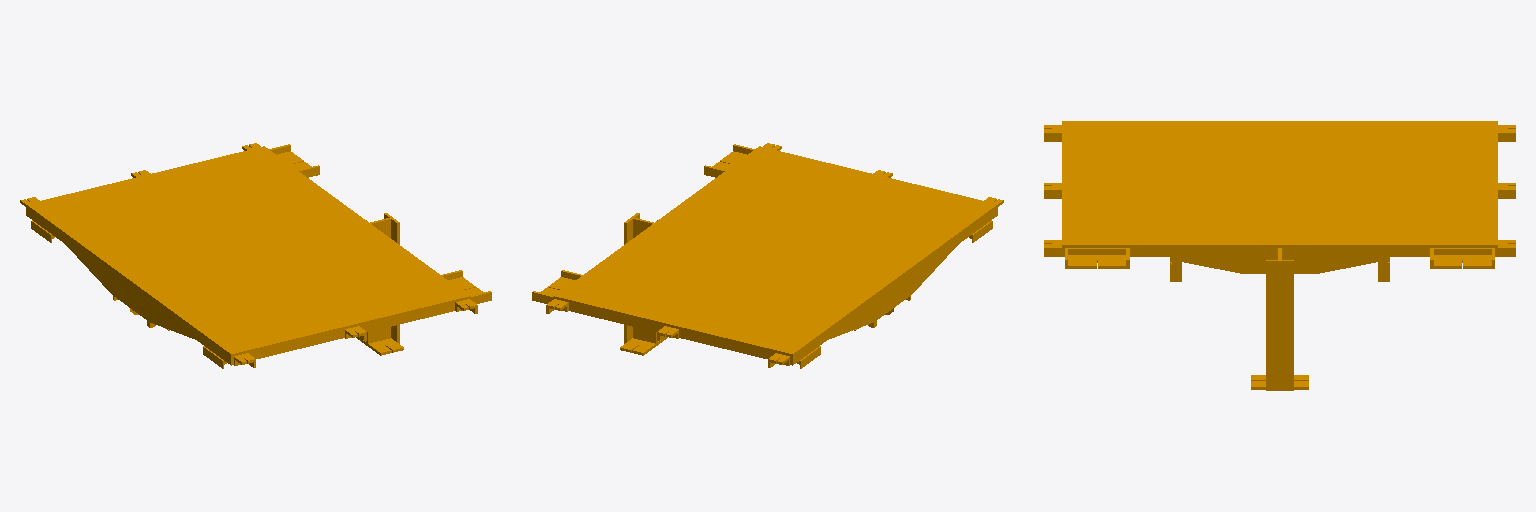
robot.urdf — navcore:
<?xml version="1.0"?>
<robot name="navcore">
  <link name="base_link">
  <pose>0 0 .1 0 0 0</pose>
    <visual>
      <origin rpy="0 0 0" xyz="0 0 0"/>
      <geometry>
        <mesh filename="package://navcore_description/meshes/Table2019_v140.stl"/>
      </geometry>
    </visual>
    <collision>
      <origin rpy="0 0 0" xyz="0 0 0"/>
      <geometry>
        <box size="1 1 0.5"/>
      </geometry>
    </collision>
    <gravity>9.81</gravity>
    <inertial>
      <origin rpy="0 0 0" xyz="0.000000 0.000000 0.000000"/>
      <mass value="1.0"/>
      <inertia ixx="5.0635929" ixy="0.00103417" ixz="0.80199628" iyy="6.08689388" iyz="0.00105311" izz="4.96191932"/>
    </inertial>
  </link>
</robot>

--- Render facts (derived) ---
Views: 3 orthographic renders of the robot side by side, from view 1: azimuth 30°, elevation 25°; view 2: azimuth 150°, elevation 25°; view 3: azimuth 270°, elevation 25°.
Model navcore with 1 links and 0 joints (none), rooted at base_link, posed all joints at 0.
Visible links, largest first — view 1: base_link; view 2: base_link; view 3: base_link.
Boxes of the visible links, x1,y1,x2,y2 form: base_link: [20, 143, 491, 368]; base_link: [532, 143, 1003, 368]; base_link: [1044, 121, 1515, 390].
Bounding box of the posed robot: 2.28 × 3.29 × 1.02 m (x, y, z).
1 mesh visuals loaded from 1 distinct referenced files (1 binary STL).